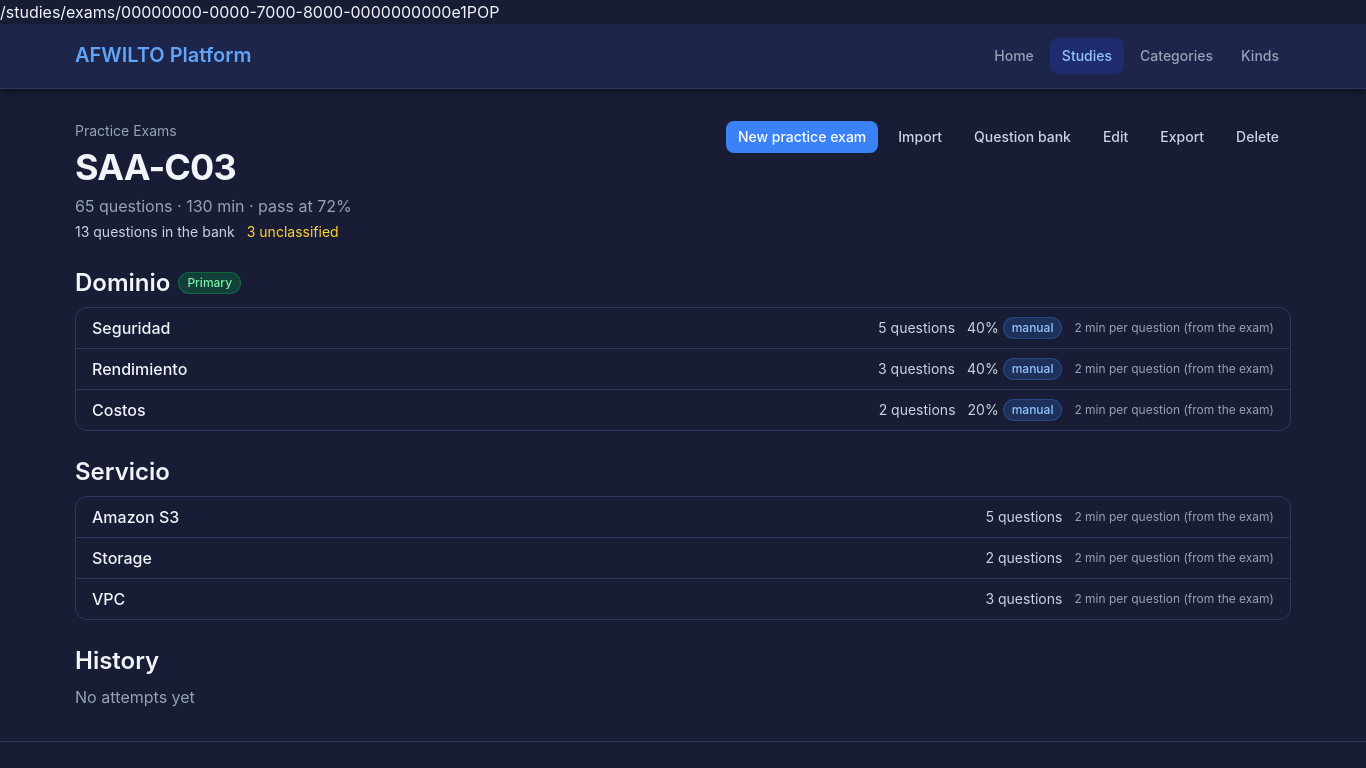
ExamOverviewPage: actions › an exam with questions cannot be deleted: the dialog explains and the exam stays
Click the button "Delete".
click(1258, 137)  # box [1224, 121, 1291, 153]
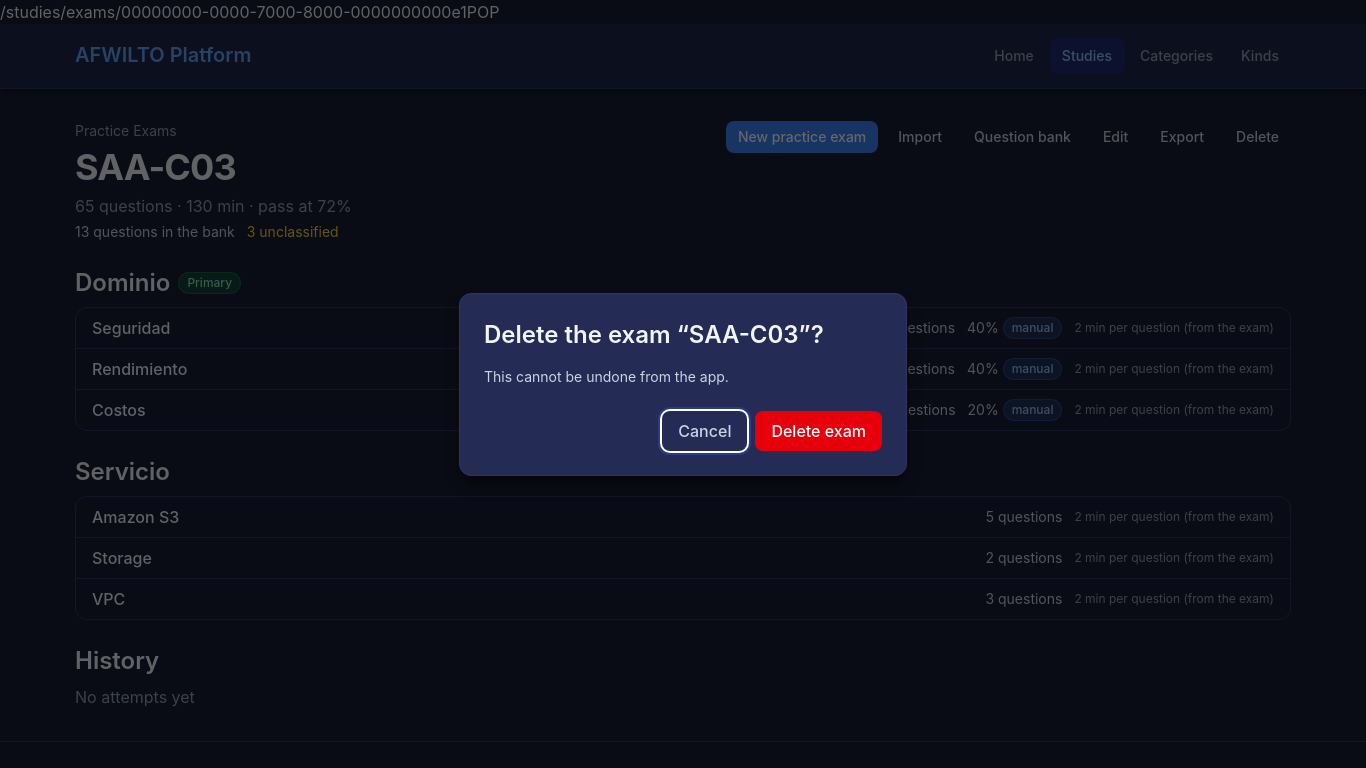
Click the button "Delete exam".
click(819, 430)  # box [755, 410, 882, 450]
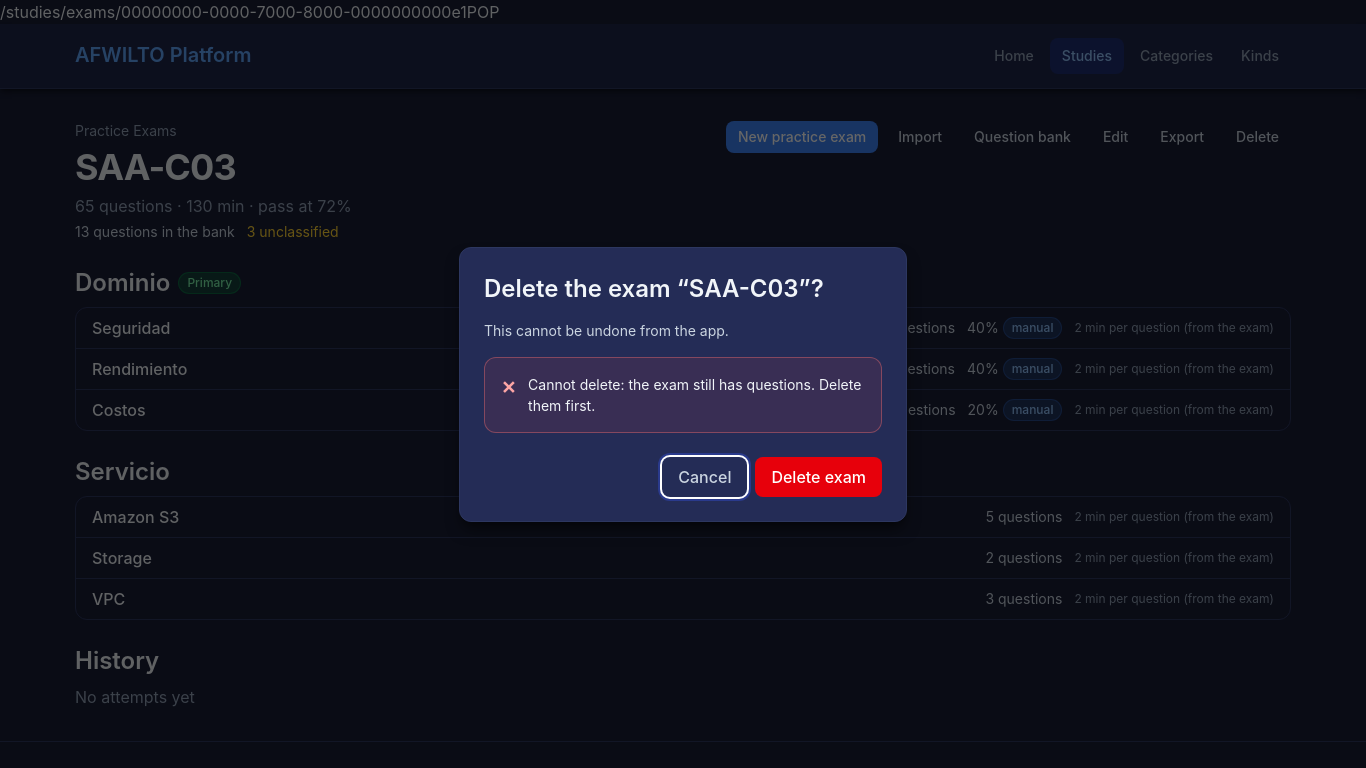
expect the text "Cannot delete: the exam still has questions. Delete them first." is shown: met, box [528, 374, 865, 416]
